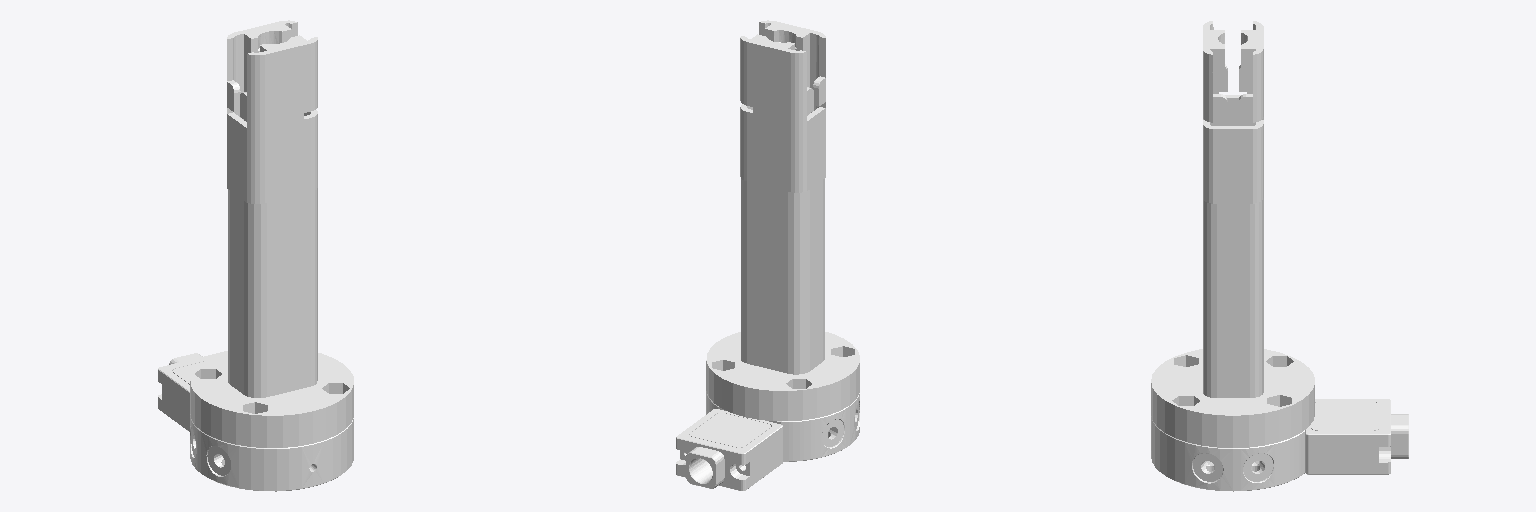
robot.urdf — Tool_stick:
<?xml version="1.0" encoding="utf-8"?>
<!-- This URDF was automatically created by SolidWorks to URDF Exporter! Originally created by [author] ([email redacted]) 
     Commit Version: 1.6.0-1-g15f4949  Build Version: 1.6.7594.29634
     For more information, please see http://wiki.ros.org/sw_urdf_exporter -->
<robot
  name="Tool_stick">
  <link
    name="base_link">
    <inertial>
      <origin
        xyz="0.042076 0.071035 0.037695"
        rpy="0 0 0" />
      <mass
        value="0.080757" />
      <inertia
        ixx="2.0339E-05"
        ixy="5.6024E-08"
        ixz="-3.6318E-08"
        iyy="2.0459E-05"
        iyz="1.4495E-08"
        izz="1.8317E-05" />
    </inertial>
    <visual>
      <origin
        xyz="0 0 0"
        rpy="0 0 0" />
      <geometry>
        <mesh
          filename="package://Tool_stick/meshes/base_link.STL" />
      </geometry>
      <material
        name="">
        <color
          rgba="1 1 1 1" />
      </material>
    </visual>
    <collision>
      <origin
        xyz="0 0 0"
        rpy="0 0 0" />
      <geometry>
        <mesh
          filename="package://Tool_stick/meshes/base_link.STL" />
      </geometry>
    </collision>
  </link>
</robot>

--- Render facts (derived) ---
Views: 3 orthographic renders of the robot side by side, from view 1: azimuth 30°, elevation 25°; view 2: azimuth 150°, elevation 25°; view 3: azimuth 270°, elevation 25°.
Model Tool_stick with 1 links and 0 joints (none), rooted at base_link, posed every joint at zero.
Visible links, largest first — view 1: base_link; view 2: base_link; view 3: base_link.
Boxes of the visible links, x1,y1,x2,y2 form: base_link: (158,20,353,491); base_link: (676,20,859,490); base_link: (1151,21,1408,491).
Size in the robot's own frame: 0.046 by 0.0722 by 0.1298 metres.
Meshes: 1 distinct files referenced, 1 mesh visuals loaded (1 binary STL).